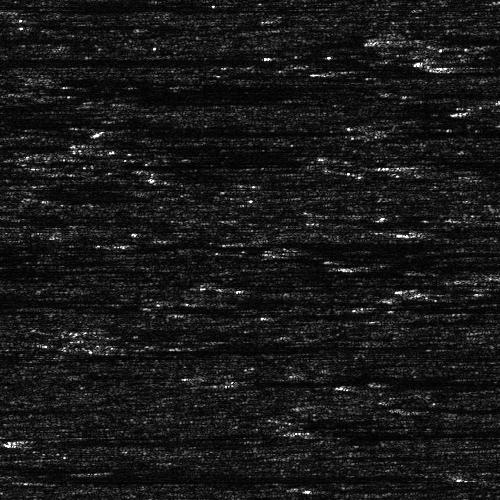rock: (390, 49, 473, 78), (0, 83, 128, 100), (174, 374, 309, 387), (390, 469, 500, 484), (27, 325, 162, 336), (0, 431, 71, 448), (368, 159, 451, 172), (347, 34, 440, 43), (378, 226, 451, 237), (58, 125, 121, 134), (91, 341, 154, 350), (329, 262, 382, 271), (0, 469, 23, 484), (378, 405, 441, 410), (226, 239, 289, 244), (64, 143, 105, 146), (0, 117, 17, 124), (317, 427, 328, 436)
shadow: (0, 469, 377, 484), (30, 431, 267, 448), (30, 83, 265, 100), (242, 374, 500, 387), (0, 210, 133, 227), (123, 341, 363, 350), (432, 49, 500, 78), (0, 257, 98, 276), (0, 55, 194, 64), (95, 325, 252, 336), (323, 427, 500, 436), (0, 117, 209, 124), (90, 125, 248, 134), (356, 262, 500, 271), (258, 239, 500, 244), (410, 159, 500, 172), (394, 34, 500, 43), (415, 226, 500, 237), (469, 469, 500, 484), (410, 405, 495, 410), (0, 38, 79, 43), (0, 107, 39, 116), (85, 143, 163, 146)
